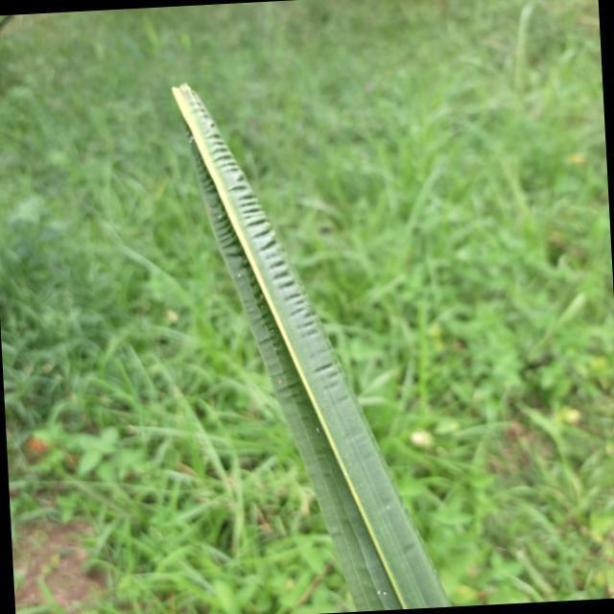Boron: (161, 73, 450, 614)
